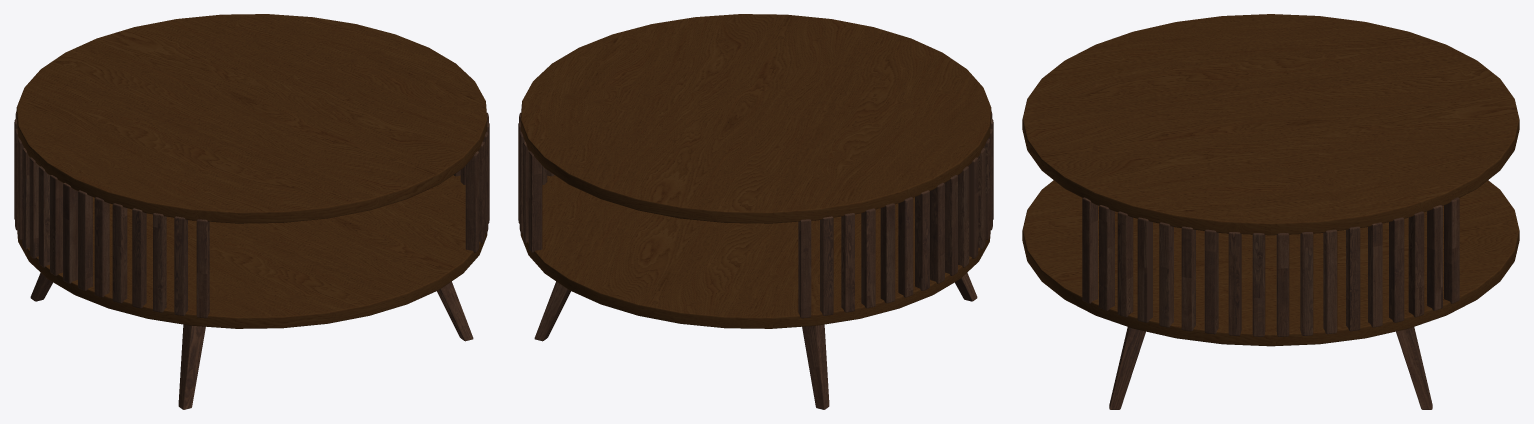
File: Circula_Table_01.glb
3 views of the same model, side by side, from view 1: azimuth 30°, elevation 25°; view 2: azimuth 150°, elevation 25°; view 3: azimuth 270°, elevation 25° (orthographic). The views are drawn at different scales.
Visible parts, largest first — view 1: Circular_Table_01_GEO; view 2: Circular_Table_01_GEO; view 3: Circular_Table_01_GEO.
Boxes of the visible parts, x1=… form: Circular_Table_01_GEO: x1=14, y1=14, x2=489, y2=409; Circular_Table_01_GEO: x1=518, y1=14, x2=993, y2=409; Circular_Table_01_GEO: x1=1022, y1=14, x2=1519, y2=409.
Size of the model in its own units: 0.534 by 0.2559 by 0.5307.
2 materials, 2 textured.
